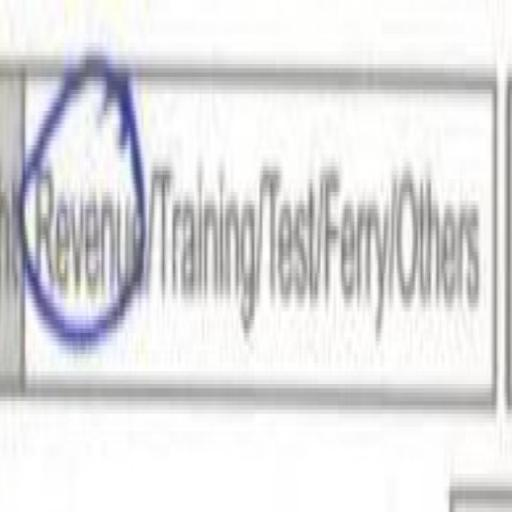check: (33, 0, 144, 469)
